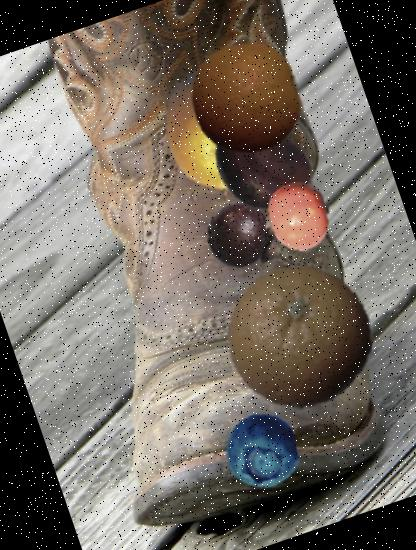Chestnut: (195, 98, 330, 233)
Clementine: (256, 171, 344, 260)
Huckleberry: (215, 403, 310, 498)
Kumquats: (139, 43, 308, 212)
Mangostan: (197, 185, 298, 287)
Orange: (208, 246, 394, 432), (174, 26, 318, 170)
